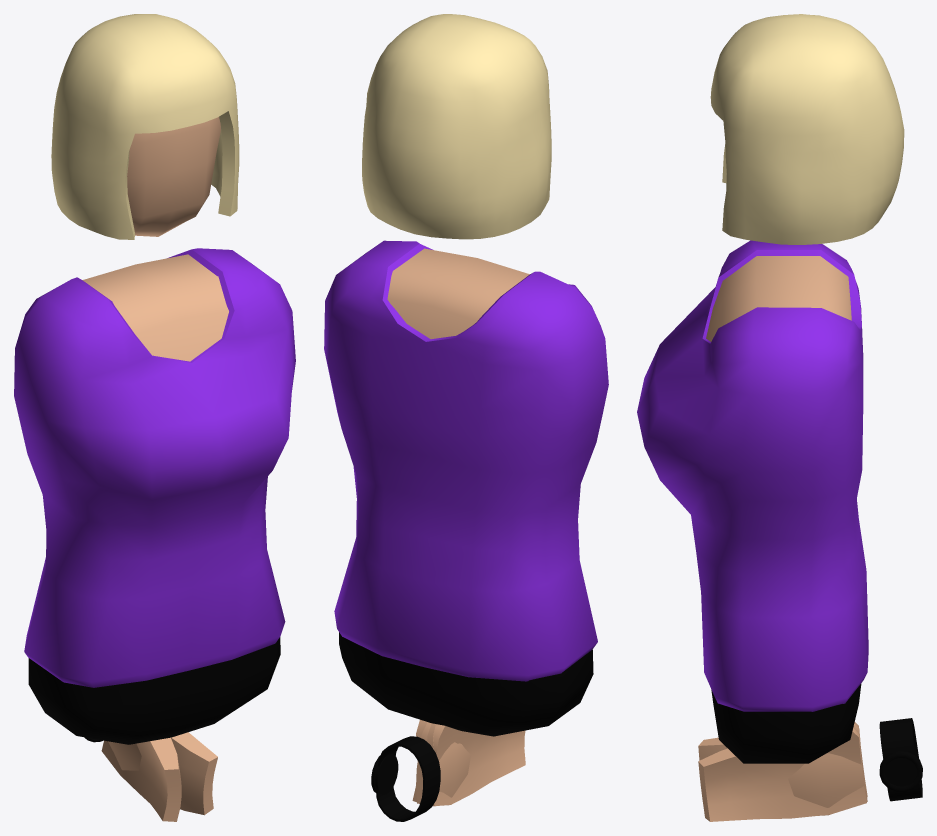
File: FemaleAvatar.fbx
3 views of the same model, side by side, from view 1: azimuth 30°, elevation 25°; view 2: azimuth 150°, elevation 25°; view 3: azimuth 270°, elevation 25° (orthographic). The views are drawn at different scales.
Parts seen in each view (by area): view 1: Body3, Hair3, Head3, HandL, HandR; view 2: Body3, Hair3, HandL, Watch, HandR; view 3: Body3, Hair3, HandR, HandL, Watch.
Boxes of the visible parts, x1,y1,x2,y2 form: Body3: (14, 248, 295, 744); Hair3: (51, 14, 239, 239); Head3: (127, 117, 220, 236); HandL: (101, 737, 181, 821); HandR: (108, 732, 217, 815); Body3: (324, 240, 608, 736); Hair3: (362, 14, 551, 239); HandL: (416, 722, 525, 806); Watch: (371, 736, 440, 821); HandR: (412, 719, 470, 806); Body3: (637, 240, 868, 763); Hair3: (710, 14, 904, 244); HandR: (698, 723, 867, 821); HandL: (698, 722, 867, 815); Watch: (879, 718, 922, 801).
Bounding box in the file's own units: 38.76 × 114 × 37.5.
